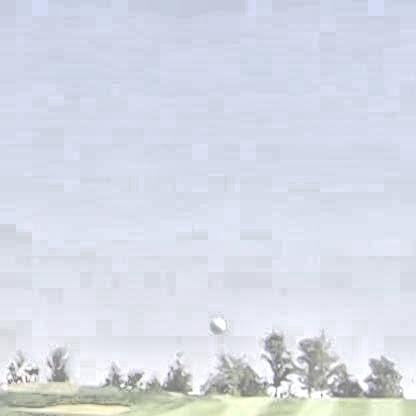golfball: (206, 314, 222, 333)
